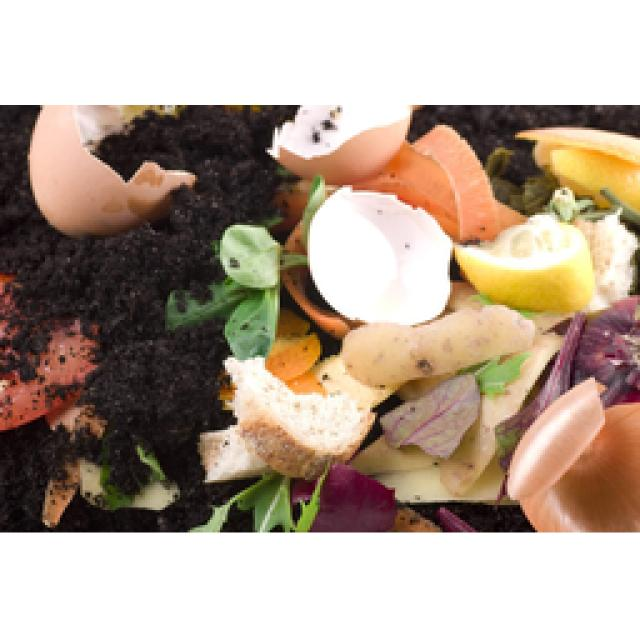food_waste: (195, 105, 638, 530), (30, 105, 190, 228)
